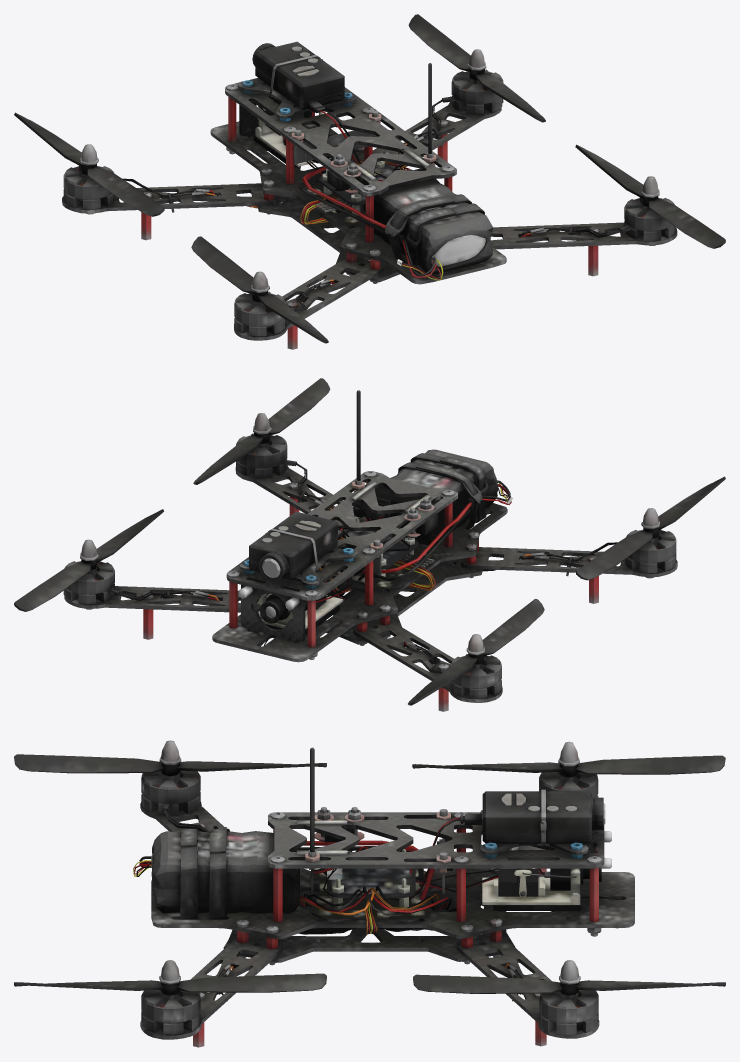
Rendered from inside-drone.glb.
3 renders of one model, top to bottom at view 1: azimuth 30°, elevation 25°; view 2: azimuth 150°, elevation 25°; view 3: azimuth 270°, elevation 25°, orthographic. The views are drawn at different scales.
Parts seen in each view (by area): view 1: Drone01; view 2: Drone01; view 3: Drone01.
Part boxes in pixels (x1,y1,x2,y2): Drone01: (14,14,725,349); Drone01: (14,378,725,711); Drone01: (14,740,725,1047).
Bounding box in the file's own units: 0.1296 × 0.0573 × 0.159.
Materials: 1 (1 with a texture image).
